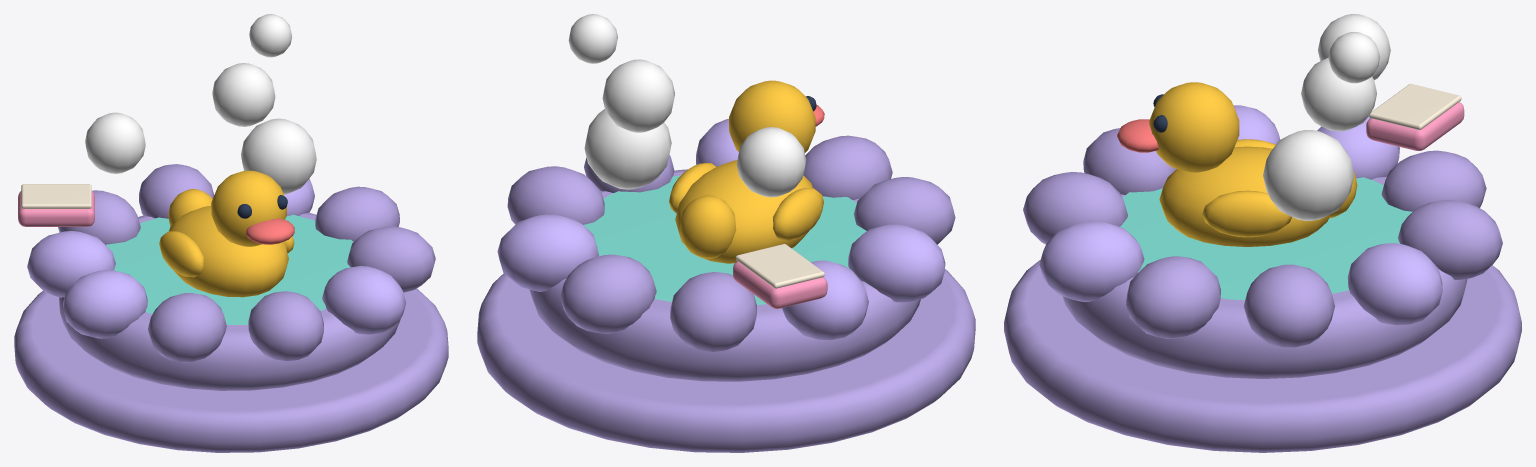
File: DecorDuckSpa.fbx
3 views of the same model, side by side, from view 1: azimuth 30°, elevation 25°; view 2: azimuth 150°, elevation 25°; view 3: azimuth 270°, elevation 25° (orthographic). The views are drawn at different scales.
Visible parts, largest first — view 1: DecorDuckSpa mesh; view 2: DecorDuckSpa mesh; view 3: DecorDuckSpa mesh.
Part boxes in pixels (x1,y1,x2,y2): DecorDuckSpa mesh: (14, 14, 448, 452); DecorDuckSpa mesh: (477, 14, 975, 452); DecorDuckSpa mesh: (1004, 14, 1521, 452).
Bounding box in the file's own units: 0.34 × 0.262 × 0.34.
